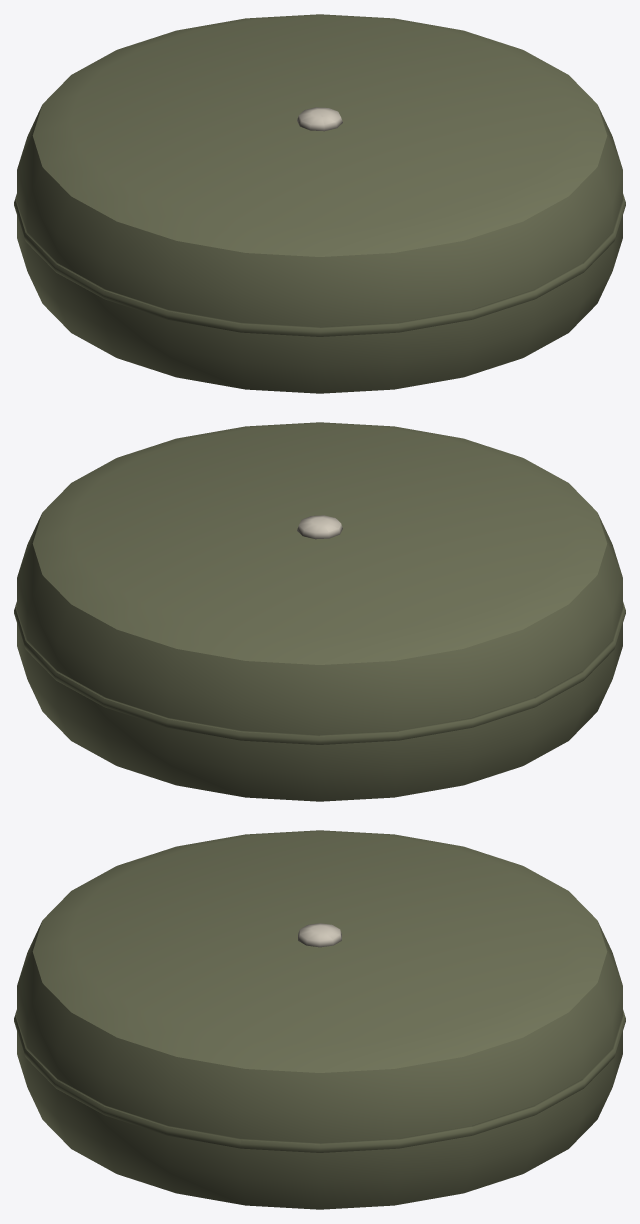
File: cushion_round.glb
3 views of the same model, one above another, from view 1: azimuth 30°, elevation 25°; view 2: azimuth 150°, elevation 25°; view 3: azimuth 270°, elevation 25° (orthographic).
Parts seen in each view (by area): view 1: cushion_round; view 2: cushion_round; view 3: cushion_round.
Part boxes in pixels (x1=…): cushion_round: x1=14, y1=14, x2=625, y2=393; cushion_round: x1=14, y1=422, x2=625, y2=801; cushion_round: x1=14, y1=830, x2=625, y2=1209.
Size of the model in its own units: 0.404 by 0.126 by 0.404.
